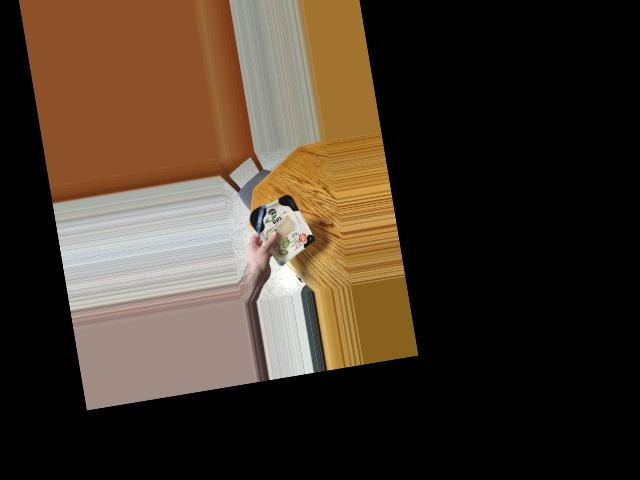cheese: (248, 189, 314, 258)
